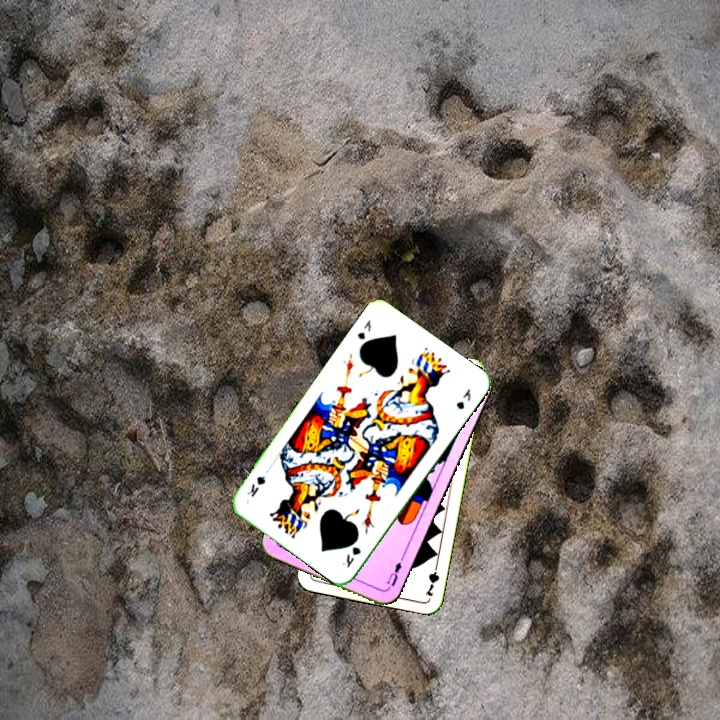EU: (382, 558, 404, 592)
G7: (422, 559, 442, 599)
GK: (338, 542, 364, 570), (353, 315, 374, 342)
